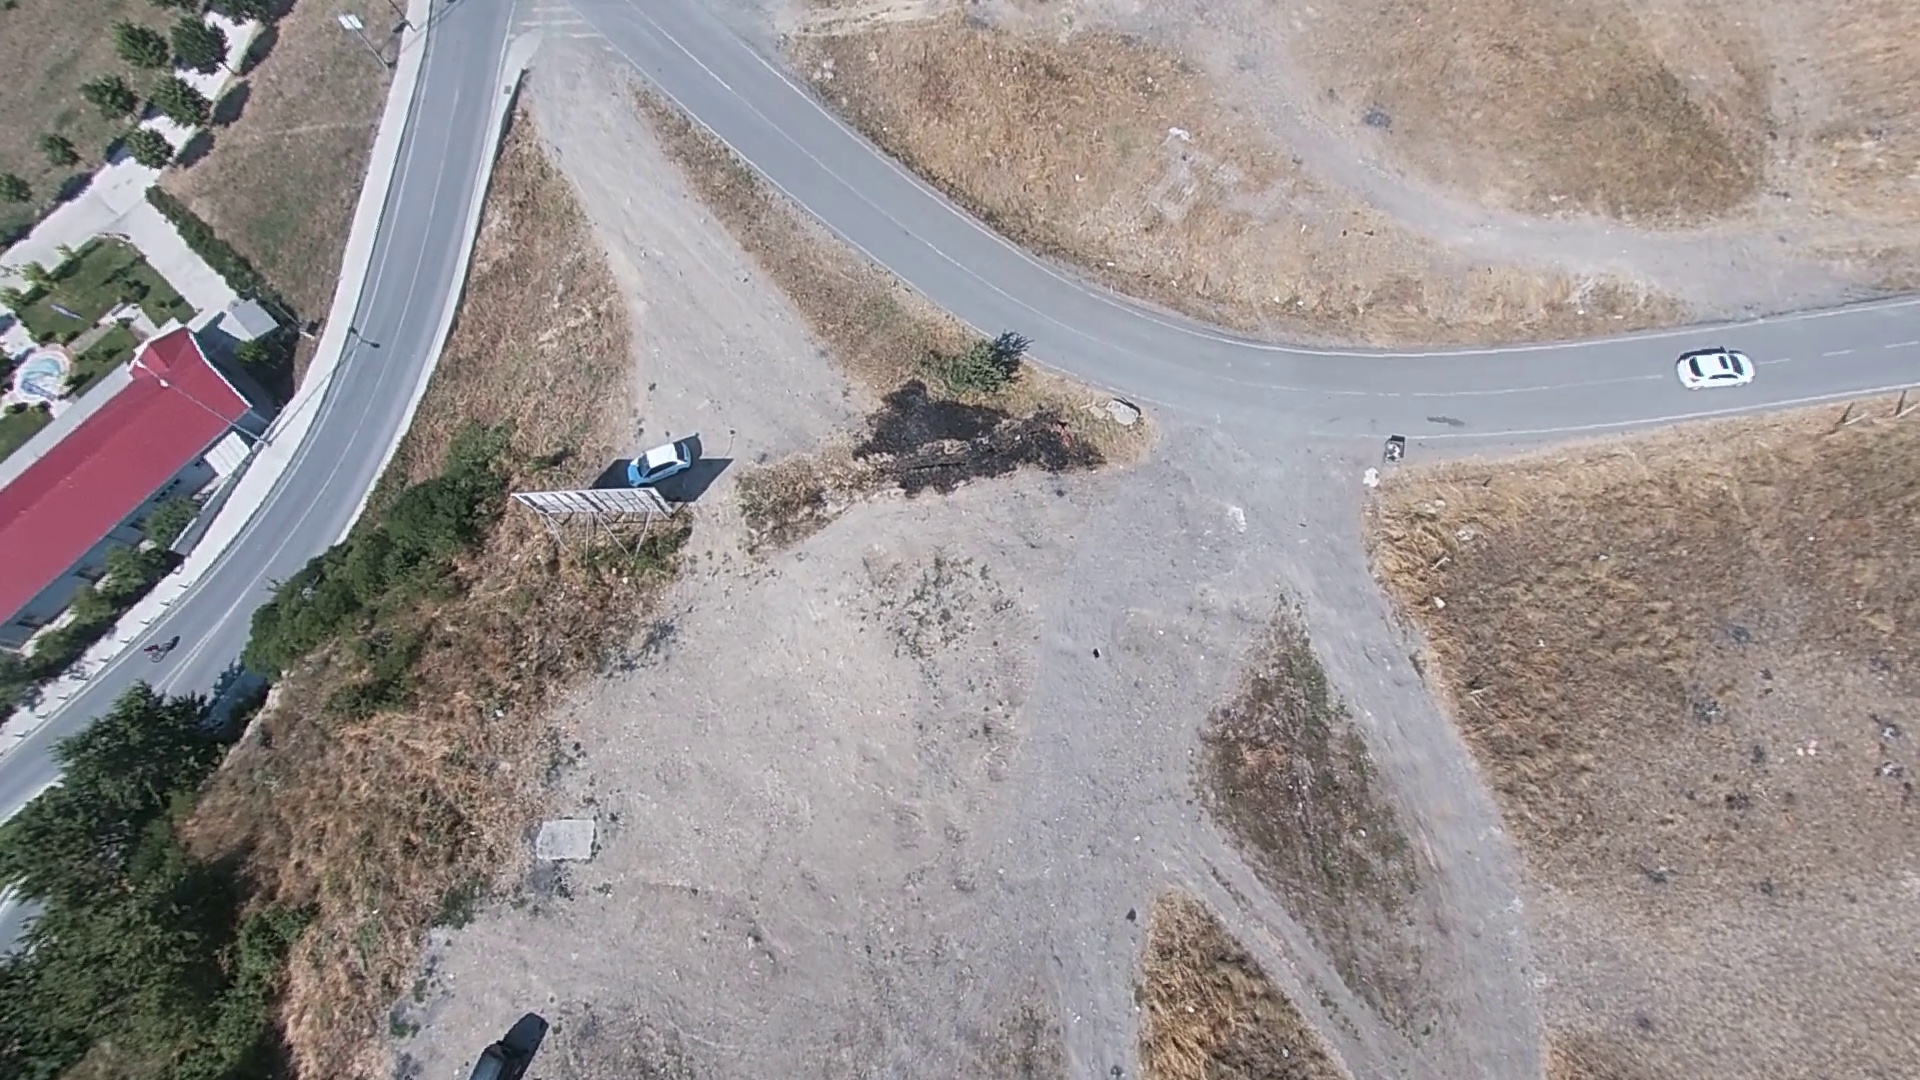araba: (622, 430, 702, 484), (1680, 342, 1759, 386)
